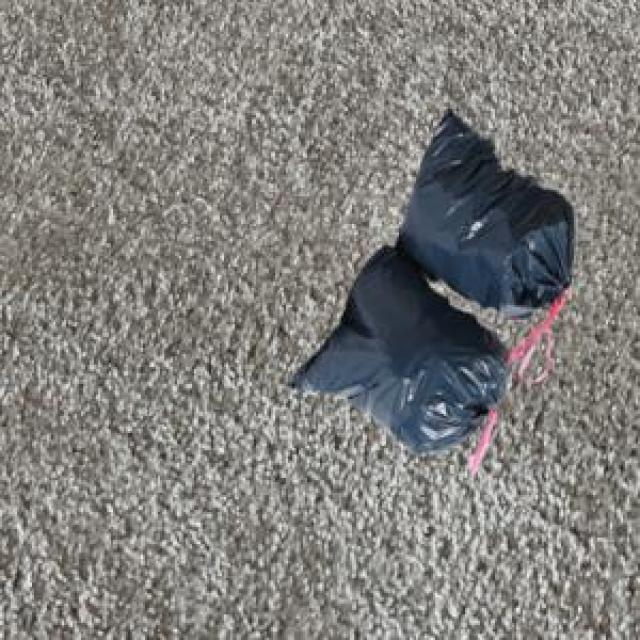miscellaneous trash: (286, 105, 570, 469)
